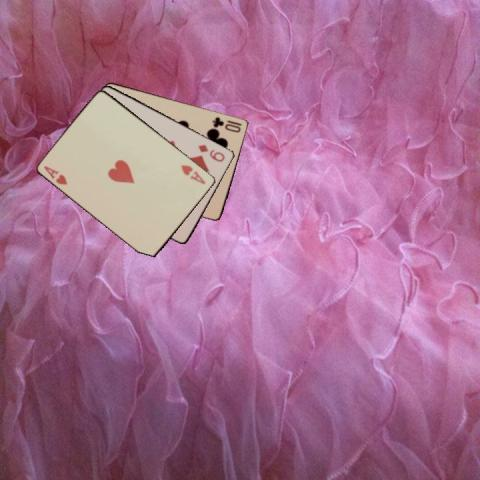10c: (210, 114, 244, 134)
9d: (195, 142, 227, 163)
Ah: (178, 161, 207, 186), (41, 163, 69, 186)
